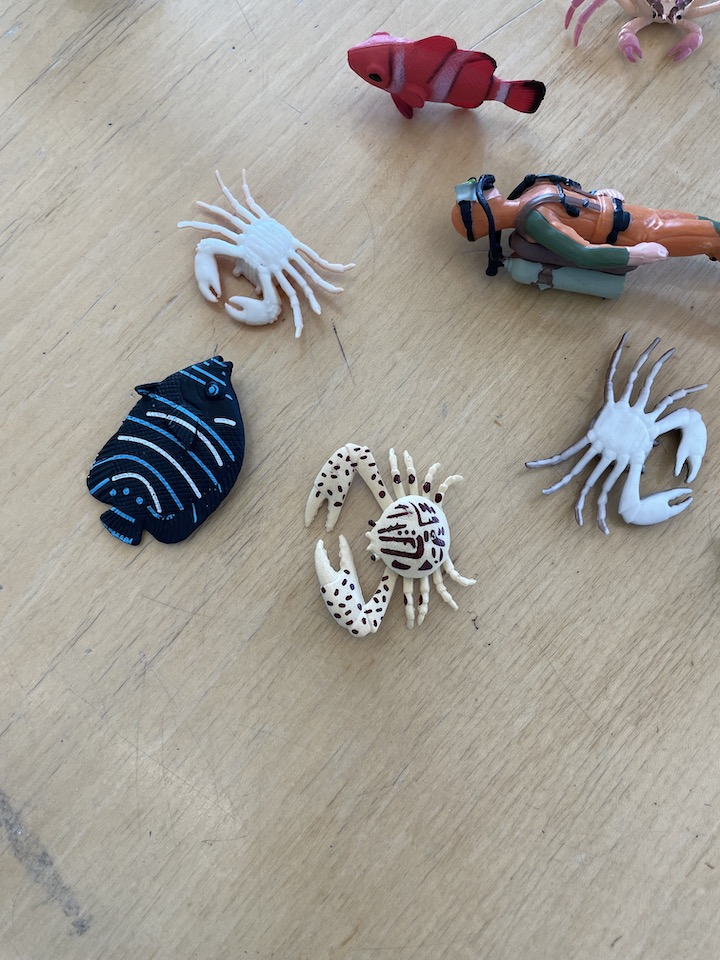crab: (521, 329, 711, 540), (305, 438, 479, 640), (172, 164, 359, 343), (559, 1, 720, 63)
diver: (450, 164, 720, 306)
fish: (80, 346, 248, 552), (345, 27, 548, 129)
